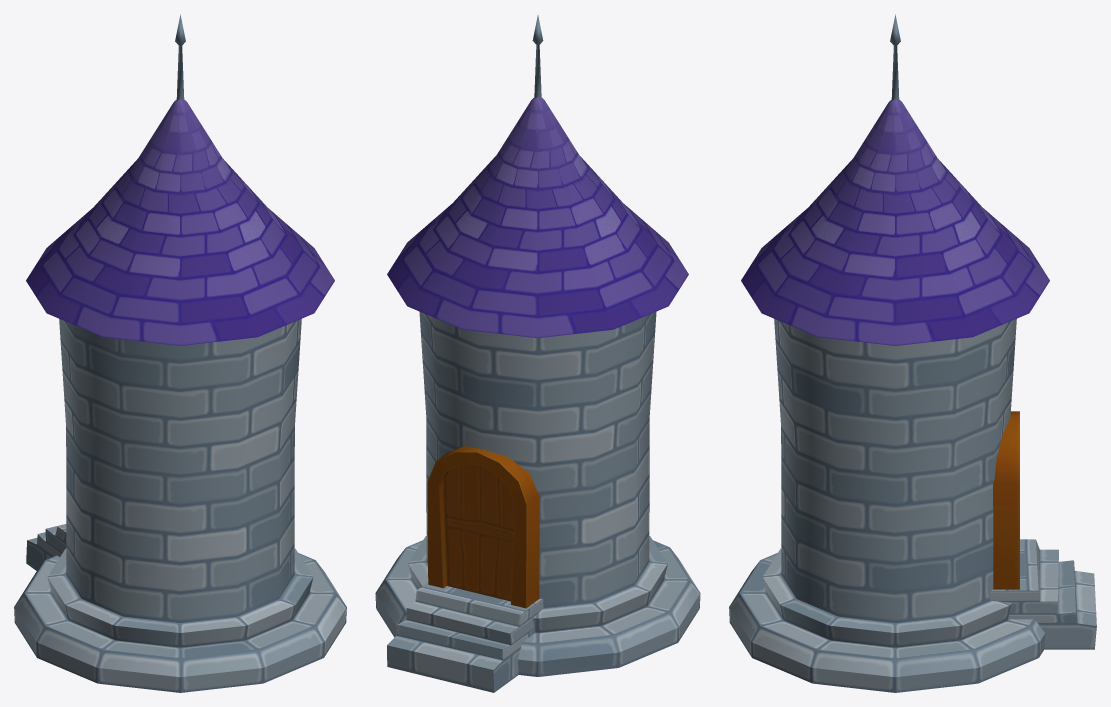
Rendered from HOS0110022.fbx.
3 views of the same model, side by side, from view 1: azimuth 30°, elevation 25°; view 2: azimuth 150°, elevation 25°; view 3: azimuth 270°, elevation 25° (orthographic). The views are drawn at different scales.
Visible parts, largest first — view 1: smHOS0110022; view 2: smHOS0110022; view 3: smHOS0110022.
Part boxes in pixels (x1,y1,x2,y2): smHOS0110022: (14, 14, 346, 692); smHOS0110022: (375, 15, 700, 692); smHOS0110022: (729, 14, 1096, 692).
Bounding box in the file's own units: 462 × 933 × 511.
1 material, 1 textured.
